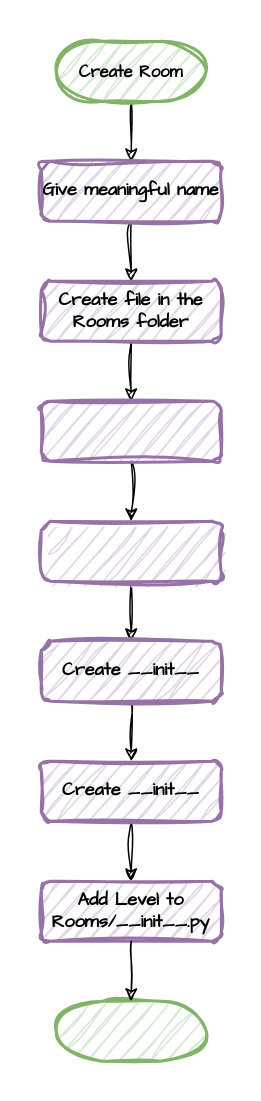
This 261x1101 diagram has some shape labels left out. Here are the shapes that lost their labels. From the top down, the centre of each, then its label:
At [130,430]: "Import Level".
At [130,550]: "Create Level class".
At [130,1030]: "End".
